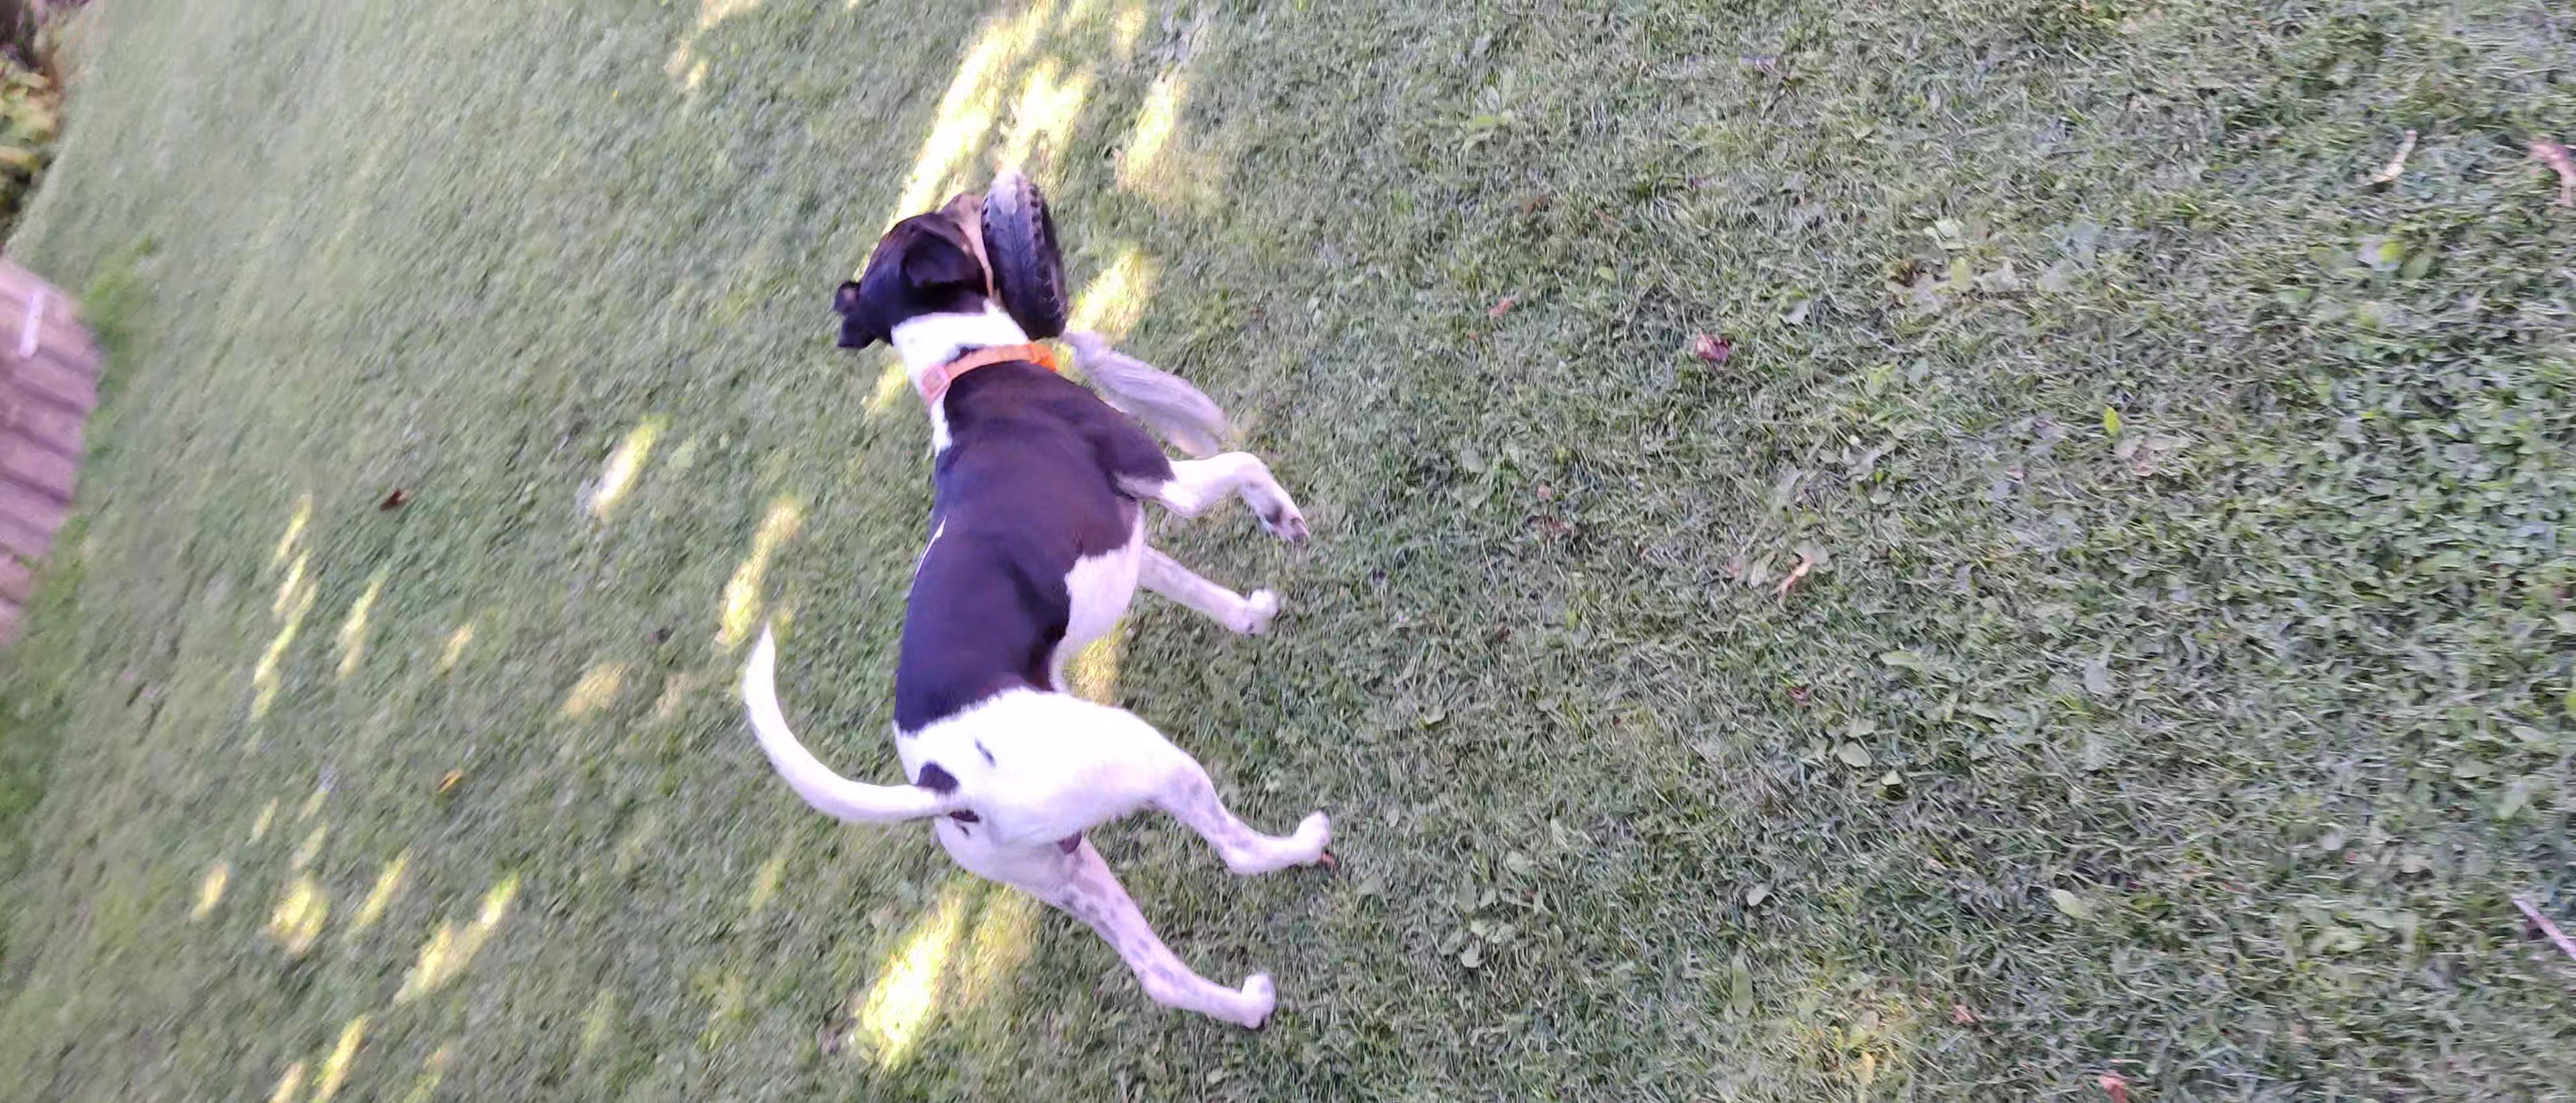Dog: (739, 179, 1342, 1032)
